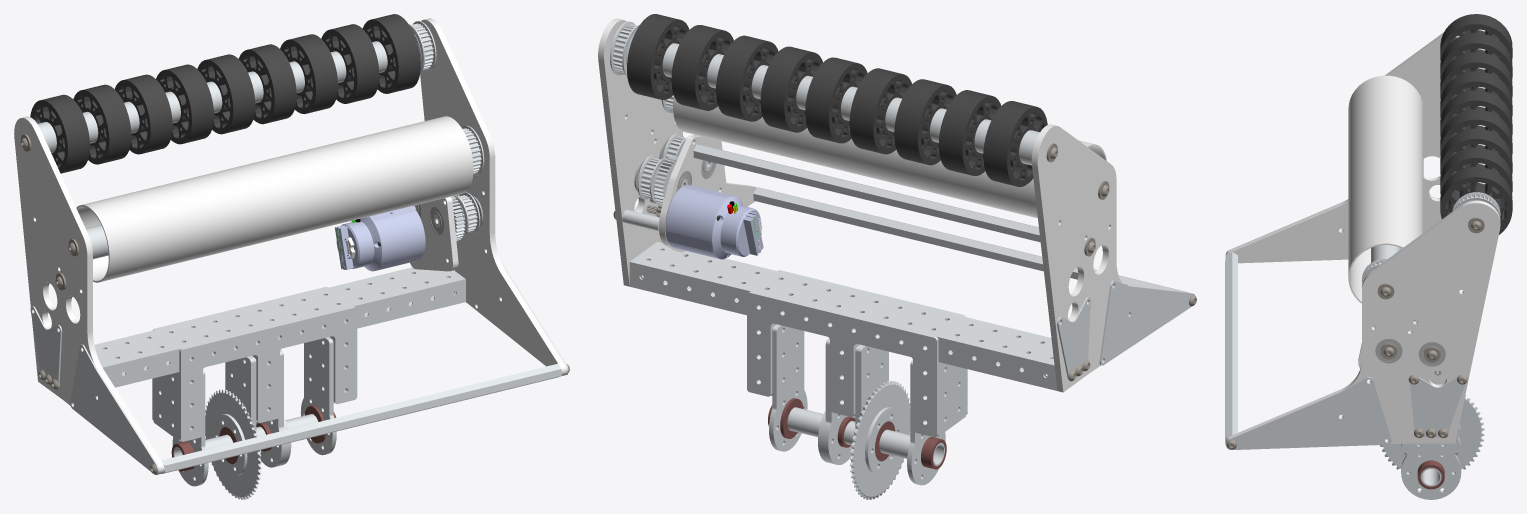
3 views of the same model, side by side, from view 1: azimuth 30°, elevation 25°; view 2: azimuth 150°, elevation 25°; view 3: azimuth 270°, elevation 25° (orthographic). The views are drawn at different scales.
Parts seen in each view (by area): view 1: NAUO80, NAUO3, NAUO1, NAUO2, NAUO69, NAUO6, NAUO112, NAUO39, NAUO86, NAUO89, NAUO92, NAUO93 (+18 smaller); view 2: NAUO3, NAUO1, NAUO64, NAUO80, NAUO2, NAUO112, NAUO24, NAUO6, NAUO39, NAUO94, NAUO91, NAUO89 (+19 smaller); view 3: NAUO2, NAUO80, NAUO1, NAUO29, NAUO6, NAUO86, NAUO28, NAUO78, NAUO65, NAUO87, NAUO93, NAUO92 (+12 smaller).
Part boxes in pixels (left/top/right/bottom): NAUO80: left=76, top=116, right=473, bottom=282; NAUO3: left=94, top=267, right=465, bottom=387; NAUO1: left=14, top=116, right=164, bottom=474; NAUO2: left=420, top=18, right=566, bottom=376; NAUO69: left=179, top=306, right=357, bottom=441; NAUO6: left=161, top=363, right=561, bottom=473; NAUO112: left=335, top=206, right=425, bottom=271; NAUO39: left=70, top=344, right=159, bottom=474; NAUO86: left=362, top=14, right=420, bottom=93; NAUO89: left=238, top=44, right=296, bottom=124; NAUO92: left=115, top=74, right=172, bottom=154; NAUO93: left=73, top=84, right=131, bottom=164; NAUO3: left=629, top=242, right=1057, bottom=390; NAUO1: left=1031, top=124, right=1190, bottom=392; NAUO64: left=747, top=291, right=938, bottom=437; NAUO80: left=673, top=96, right=1106, bottom=218; NAUO2: left=598, top=18, right=756, bottom=286; NAUO112: left=665, top=185, right=763, bottom=259; NAUO24: left=693, top=144, right=1040, bottom=242; NAUO6: left=753, top=187, right=1187, bottom=292; NAUO39: left=1099, top=280, right=1194, bottom=365; NAUO94: left=983, top=101, right=1047, bottom=186; NAUO91: left=849, top=68, right=911, bottom=154; NAUO89: left=760, top=46, right=822, bottom=132; NAUO2: left=1225, top=200, right=1500, bottom=443; NAUO80: left=1348, top=75, right=1423, bottom=303; NAUO1: left=1225, top=32, right=1459, bottom=263; NAUO29: left=1225, top=377, right=1391, bottom=449; NAUO6: left=1225, top=252, right=1237, bottom=443; NAUO86: left=1440, top=166, right=1512, bottom=234; NAUO28: left=1410, top=377, right=1465, bottom=437; NAUO78: left=1401, top=455, right=1461, bottom=499; NAUO65: left=1379, top=394, right=1484, bottom=472; NAUO87: left=1440, top=147, right=1512, bottom=212; NAUO93: left=1440, top=33, right=1512, bottom=79; NAUO92: left=1440, top=52, right=1512, bottom=98.
Bounding box in the file's own units: 0.4804 × 0.4564 × 0.3024.
